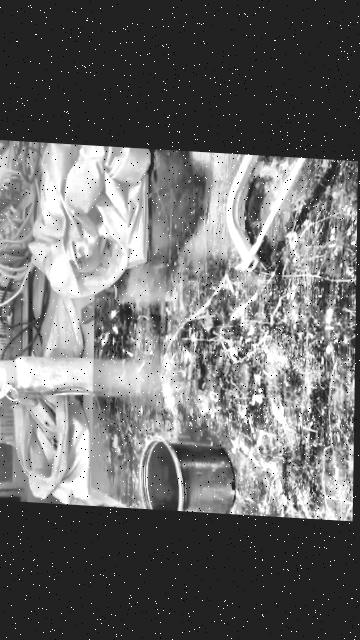pot: (139, 436, 236, 514)
